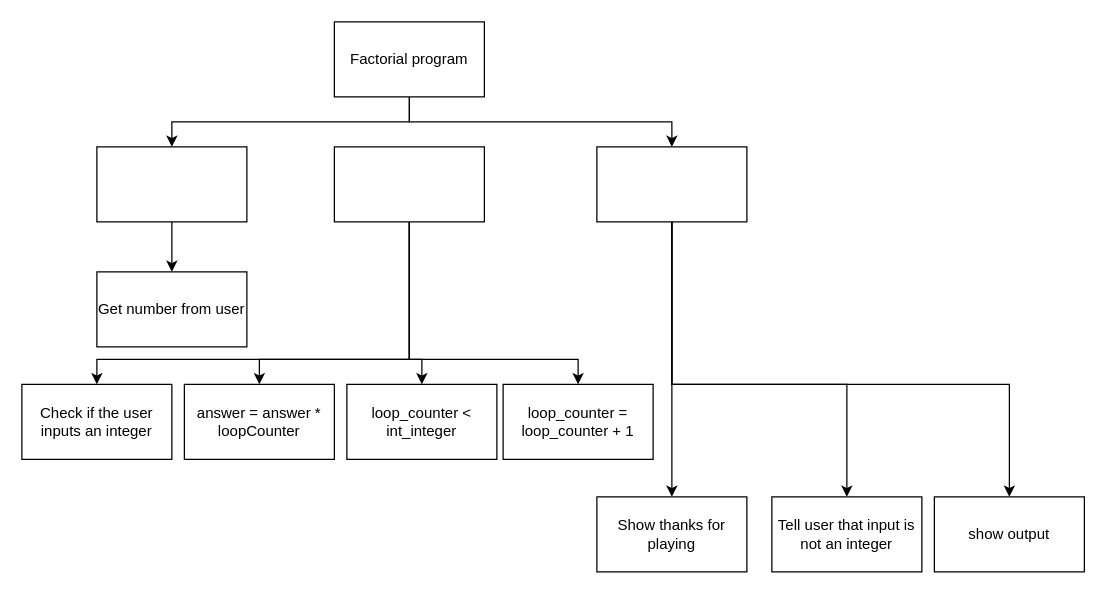
This 1106x594 diagram has some shape labels left out. Each missing label, with the centre of its shape:
Input: the point at 171,184
Output: the point at 671,184
Process: the point at 408,184
